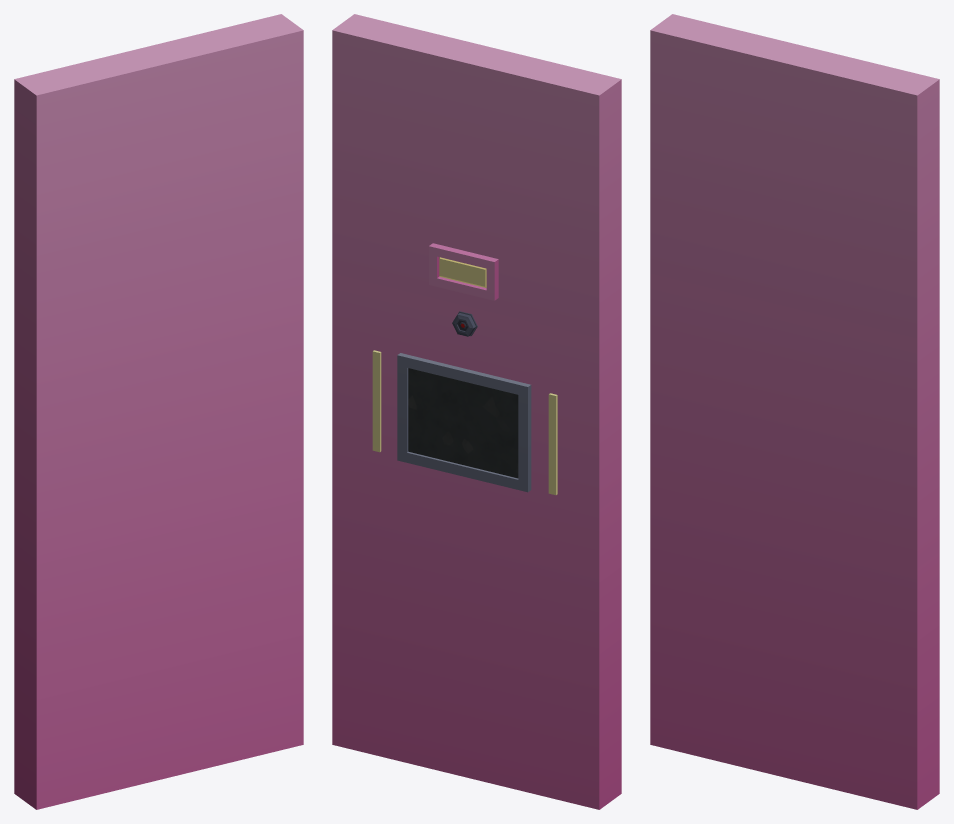
Rendered from squidgame_props_platform_gate.fbx.
3 views of the same model, side by side, from view 1: azimuth 30°, elevation 25°; view 2: azimuth 150°, elevation 25°; view 3: azimuth 330°, elevation 25° (orthographic).
Parts seen in each view (by area): view 1: squidgame_props_platform_gate; view 2: squidgame_props_platform_gate, squidgame_props_platform_gate_light; view 3: squidgame_props_platform_gate.
Part boxes in pixels (box(x1,y1,x2,y2)): squidgame_props_platform_gate: box(14, 14, 303, 809); squidgame_props_platform_gate: box(332, 14, 621, 809); squidgame_props_platform_gate_light: box(372, 350, 557, 495); squidgame_props_platform_gate: box(650, 14, 939, 809).
Bounding box in the file's own units: 0.7831 × 2 × 0.1338.
